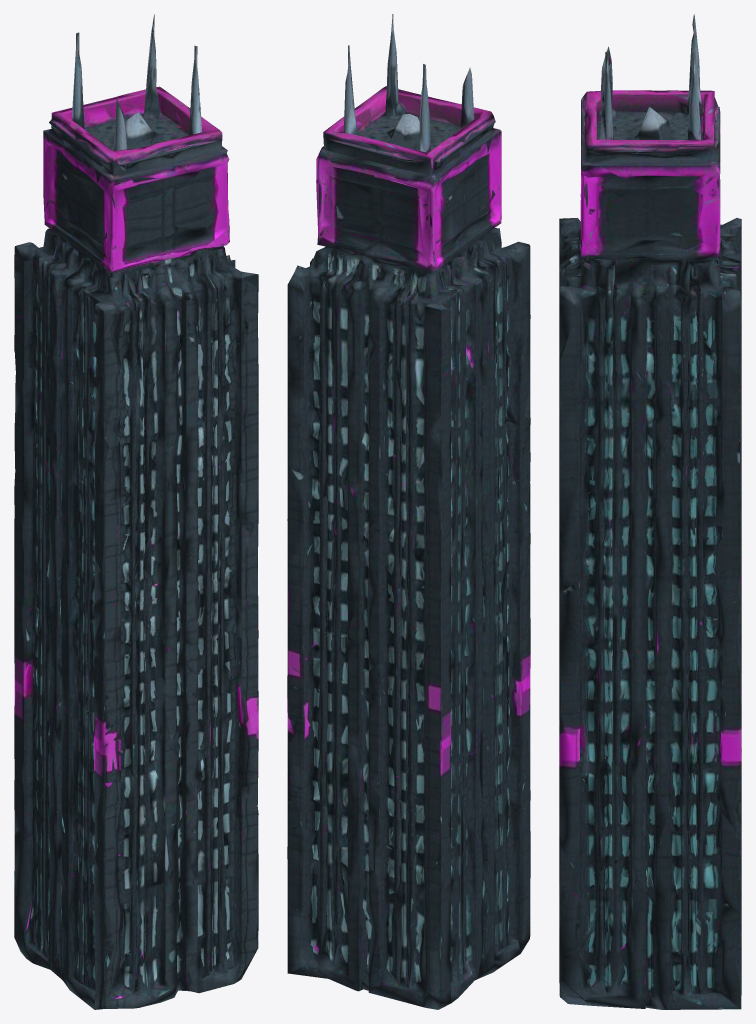
File: bsTower.c9f7fad7.glb
3 renders of one model, left to right at view 1: azimuth 30°, elevation 25°; view 2: azimuth 150°, elevation 25°; view 3: azimuth 270°, elevation 25°, orthographic.
Size of the model in its own units: 0.3337 by 1.9 by 0.3348.
1 material, 1 textured.
